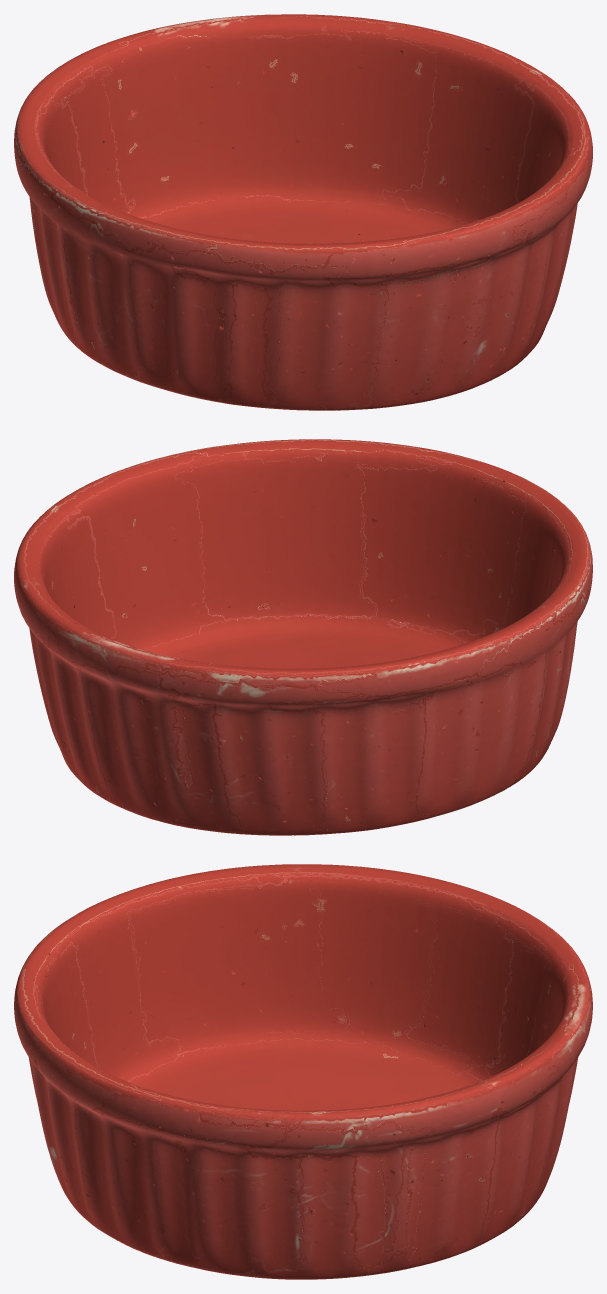
The picture shows the model from 3 angles, top to bottom: view 1: azimuth 30°, elevation 25°; view 2: azimuth 150°, elevation 25°; view 3: azimuth 270°, elevation 25°; orthographic projection.
Size of the model in its own units: 1.89 by 0.7053 by 1.89.
1 material, 1 textured.
